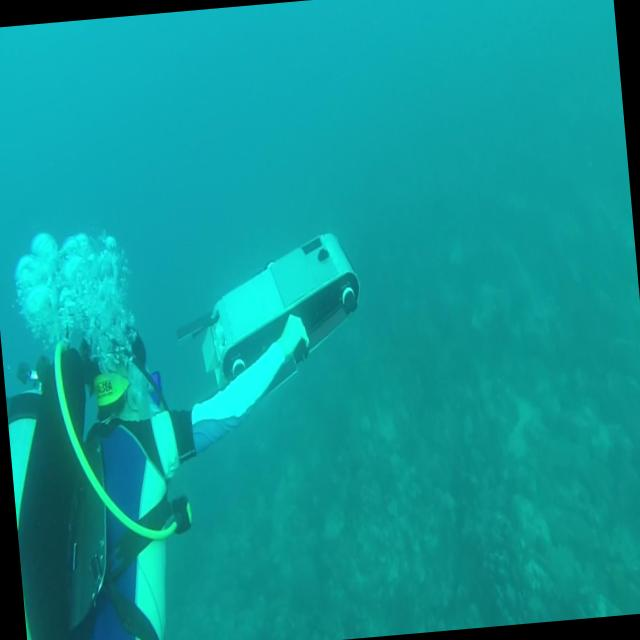human: (0, 205, 387, 640)
